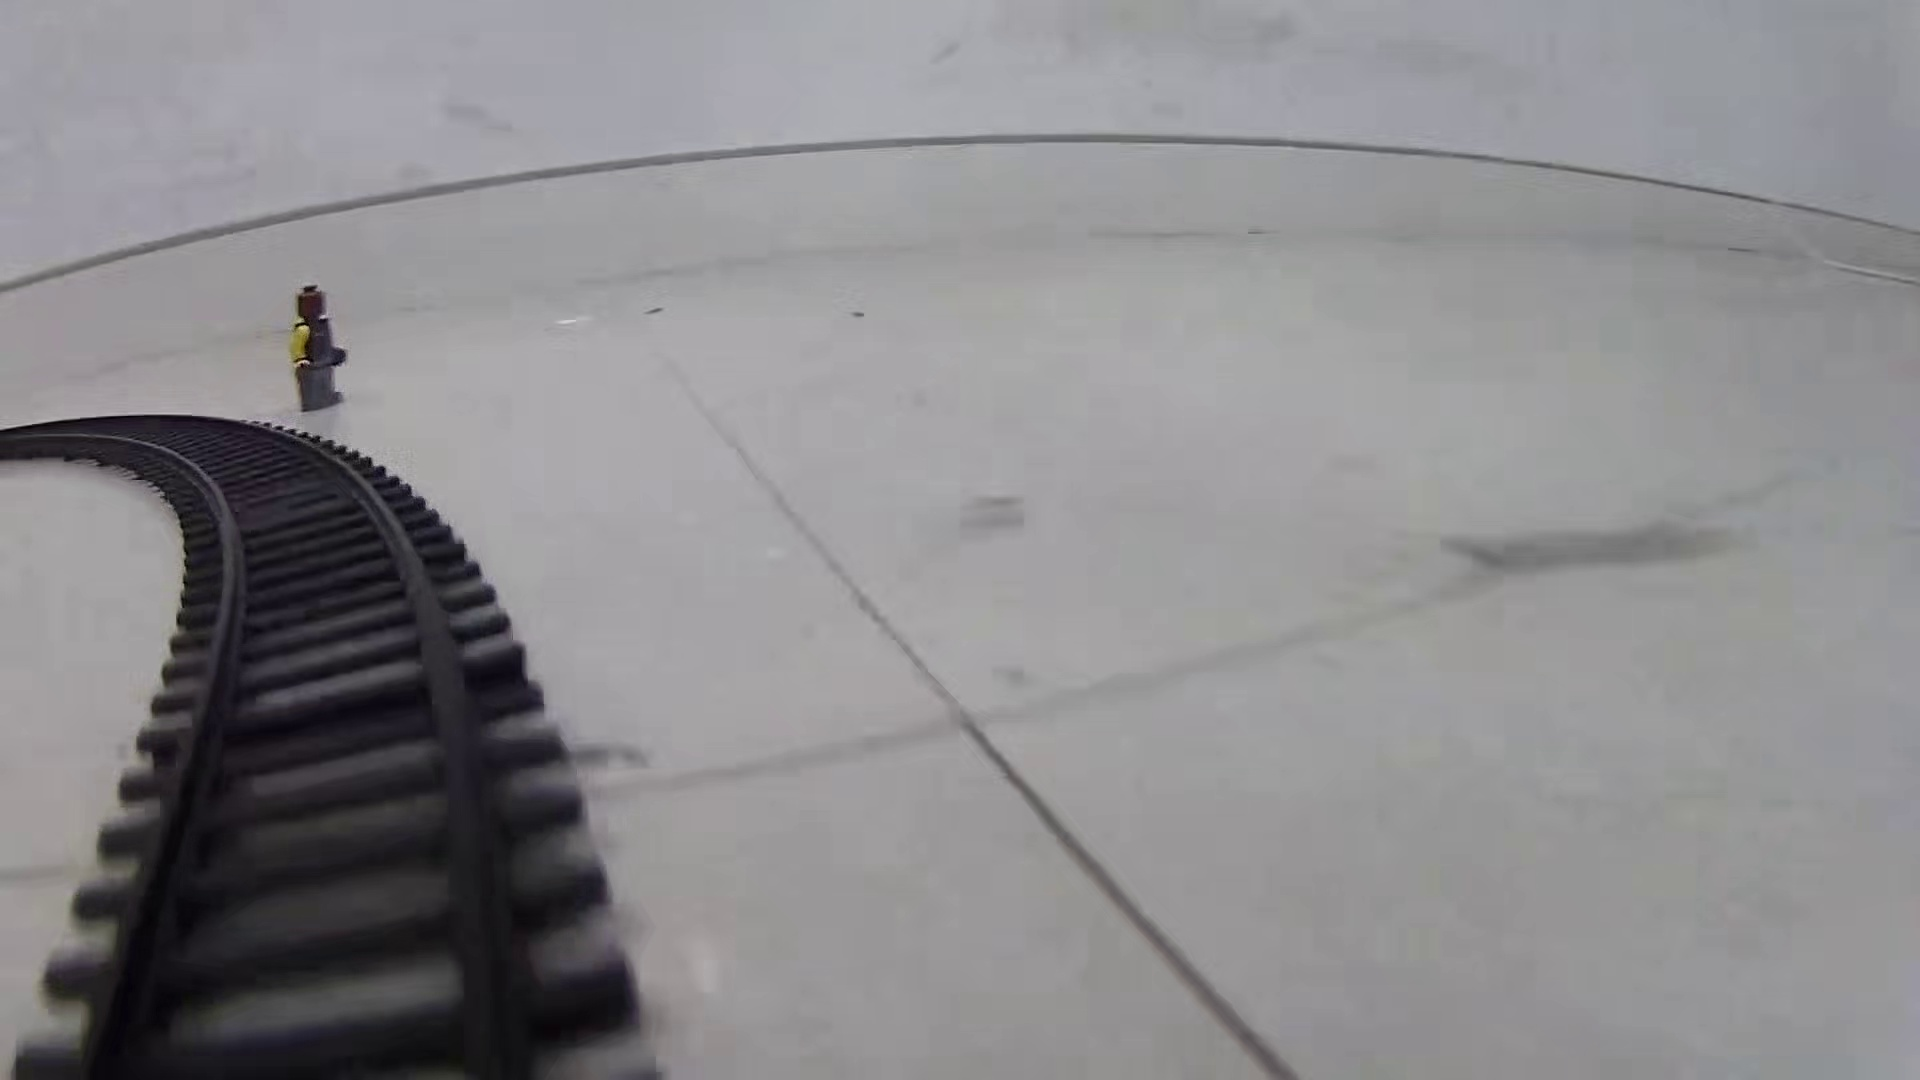people: (290, 284, 347, 416)
